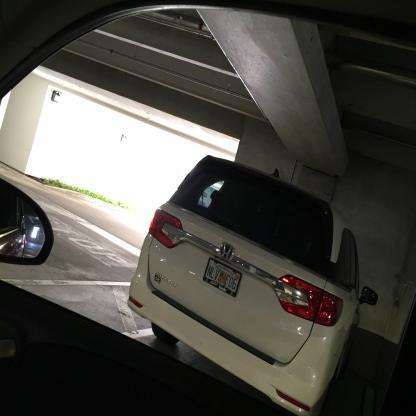License-Plate: (198, 252, 248, 298)
